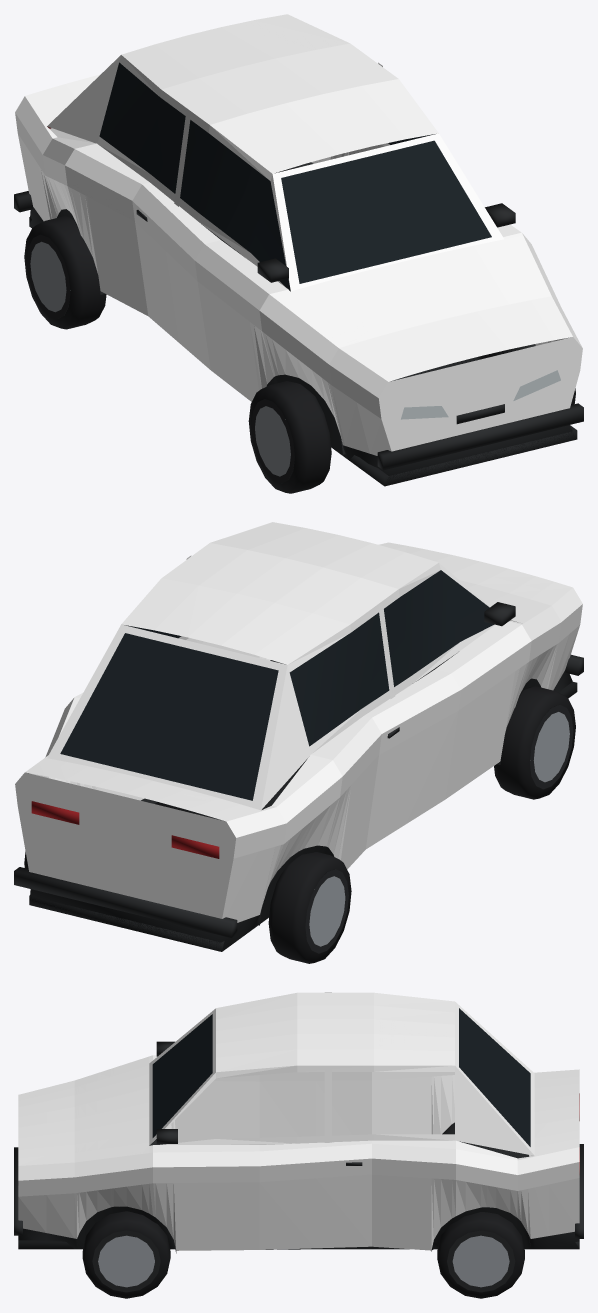
The model's file is ottavo_miudo.glb.
The picture shows the model from 3 angles, top to bottom: view 1: azimuth 30°, elevation 25°; view 2: azimuth 150°, elevation 25°; view 3: azimuth 270°, elevation 25°; orthographic projection. The views are drawn at different scales.
Parts seen in each view (by area): view 1: Body_Paint, Body_Details, Mount_FrontLeft_Wheel_Details, Mount_RearLeft_Wheel_Details; view 2: Body_Paint, Body_Details, Mount_RearLeft_Wheel_Details, Mount_FrontLeft_Wheel_Details; view 3: Body_Paint, Body_Details, Mount_FrontRight_Wheel_Details, Mount_RearRight_Wheel_Details.
Part boxes in pixels (<box>): Body_Paint: <box>15,14,582,455</box>; Body_Details: <box>14,62,583,486</box>; Mount_FrontLeft_Wheel_Details: <box>248,381,331,493</box>; Mount_RearLeft_Wheel_Details: <box>24,216,106,329</box>; Body_Paint: <box>15,522,582,922</box>; Body_Details: <box>14,570,583,951</box>; Mount_RearLeft_Wheel_Details: <box>268,852,351,963</box>; Mount_FrontLeft_Wheel_Details: <box>494,686,575,799</box>; Body_Paint: <box>18,992,579,1250</box>; Body_Details: <box>14,1008,583,1253</box>; Mount_FrontRight_Wheel_Details: <box>82,1211,170,1298</box>; Mount_RearRight_Wheel_Details: <box>437,1212,524,1298</box>.
Size of the model in its own units: 1.56 by 1.5 by 3.51.
2 materials, 1 textured.
